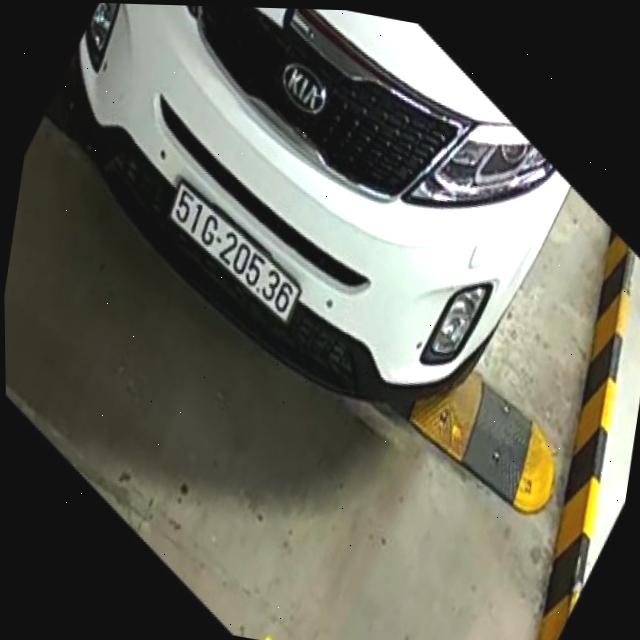car: (24, 1, 598, 436)
plate: (151, 172, 319, 329)
